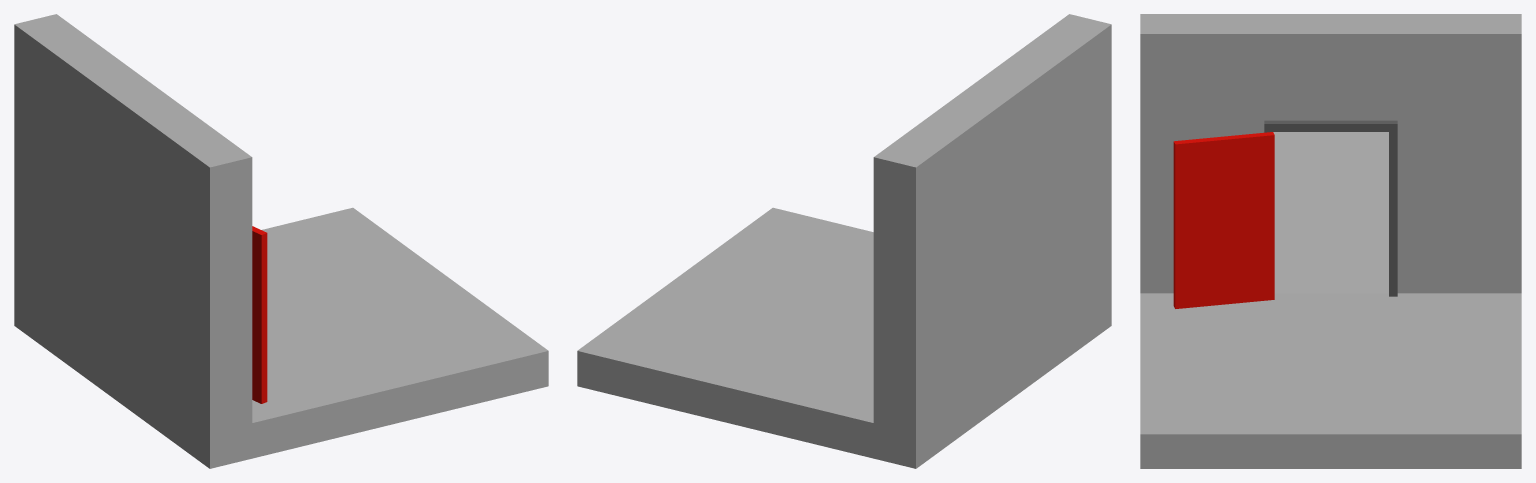
File: ExitDoor.fbx
3 views of the same model, side by side, from view 1: azimuth 30°, elevation 25°; view 2: azimuth 150°, elevation 25°; view 3: azimuth 270°, elevation 25° (orthographic). The views are drawn at different scales.
Parts seen in each view (by area): view 1: Cube; view 2: Cube; view 3: Cube.
Boxes of the visible parts, <box> form: Cube: <box>14,14,548,468</box>; Cube: <box>577,14,1111,468</box>; Cube: <box>1140,14,1521,468</box>.
Bounding box in the file's own units: 400 × 340 × 400.
